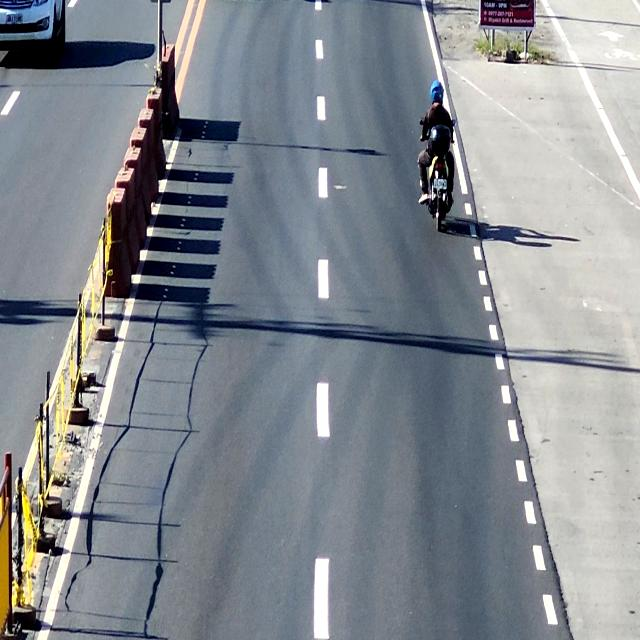License-Plate: (432, 177, 448, 193)
Motorcycle: (418, 86, 459, 231)
